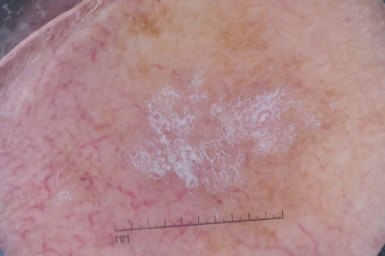seborrheic keratosis: (112, 63, 318, 193)
